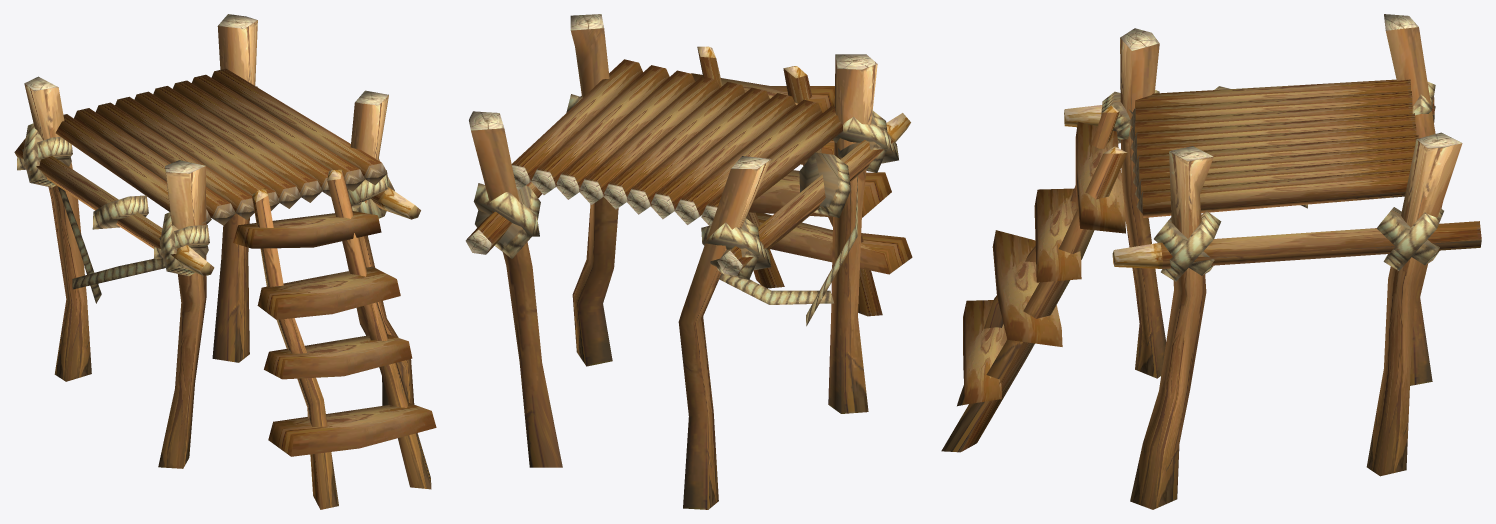
File: environment_common_mutai_001_a.FBX
3 views of the same model, side by side, from view 1: azimuth 30°, elevation 25°; view 2: azimuth 150°, elevation 25°; view 3: azimuth 270°, elevation 25° (orthographic). The views are drawn at different scales.
Visible parts, largest first — view 1: environment_common_mutai_001_a; view 2: environment_common_mutai_001_a; view 3: environment_common_mutai_001_a.
Boxes of the visible parts, x1,y1,x2,y2 form: environment_common_mutai_001_a: (14, 14, 436, 509); environment_common_mutai_001_a: (465, 14, 912, 509); environment_common_mutai_001_a: (941, 14, 1481, 509).
Bounding box in the file's own units: 182 × 197 × 277.
